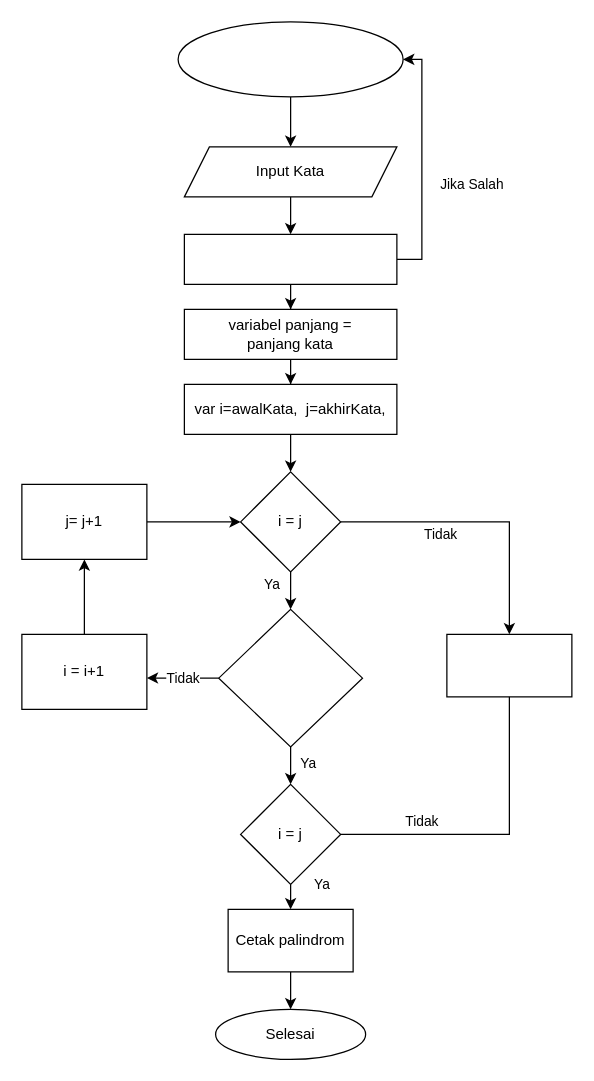
The diagram is 594 pixels wide and 1081 high, and some of its shapes have lost their labels. Each missing label, with the centre of its shape:
Cek Validasi Kata: (290,258)
cetak Bukan Palindrom: (509,665)
i > panjang dan j<=i: (290,677)
Mulai: (290,59)
